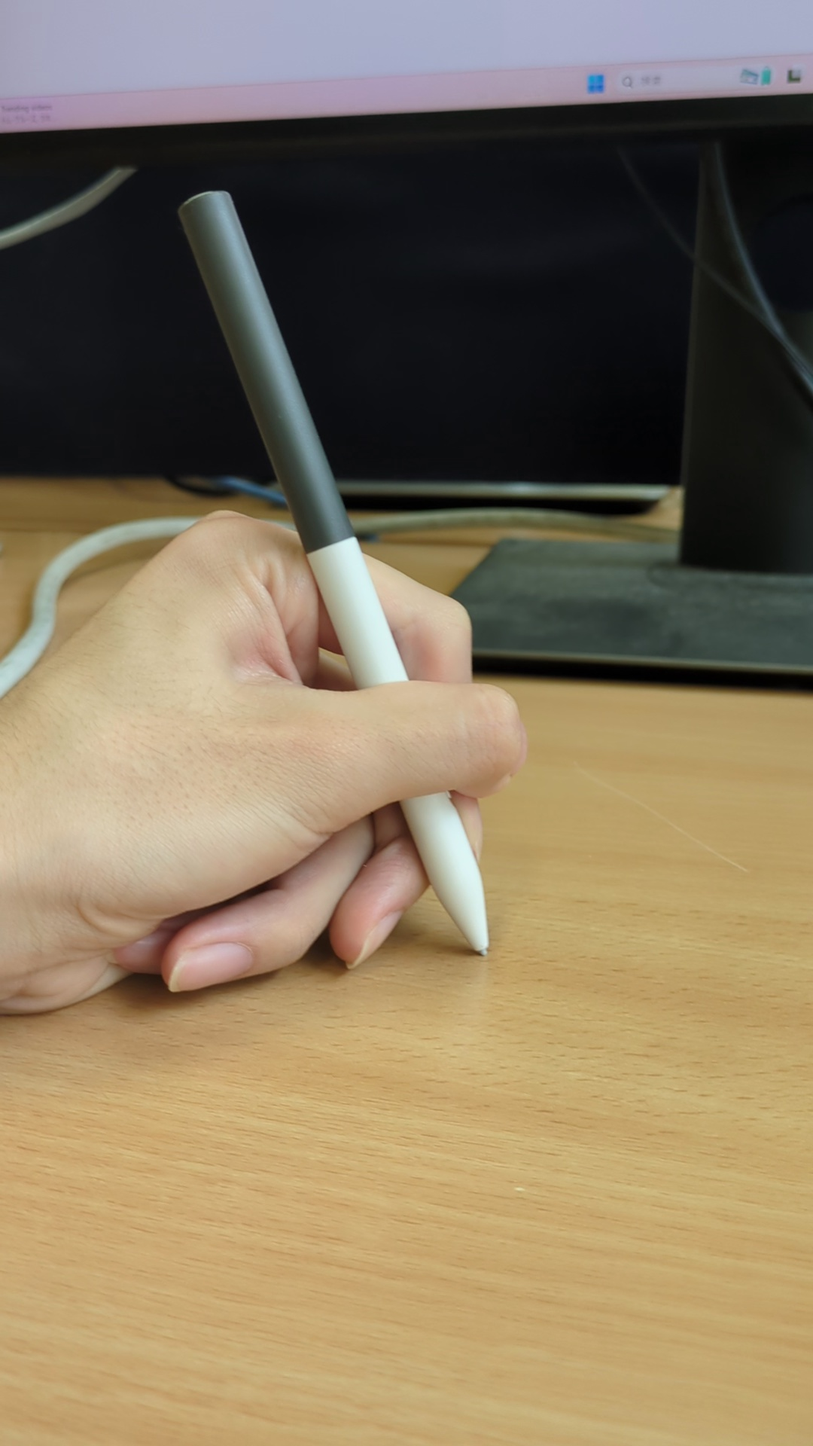pen: (178, 188, 493, 960)
tip: (468, 931, 492, 958)
